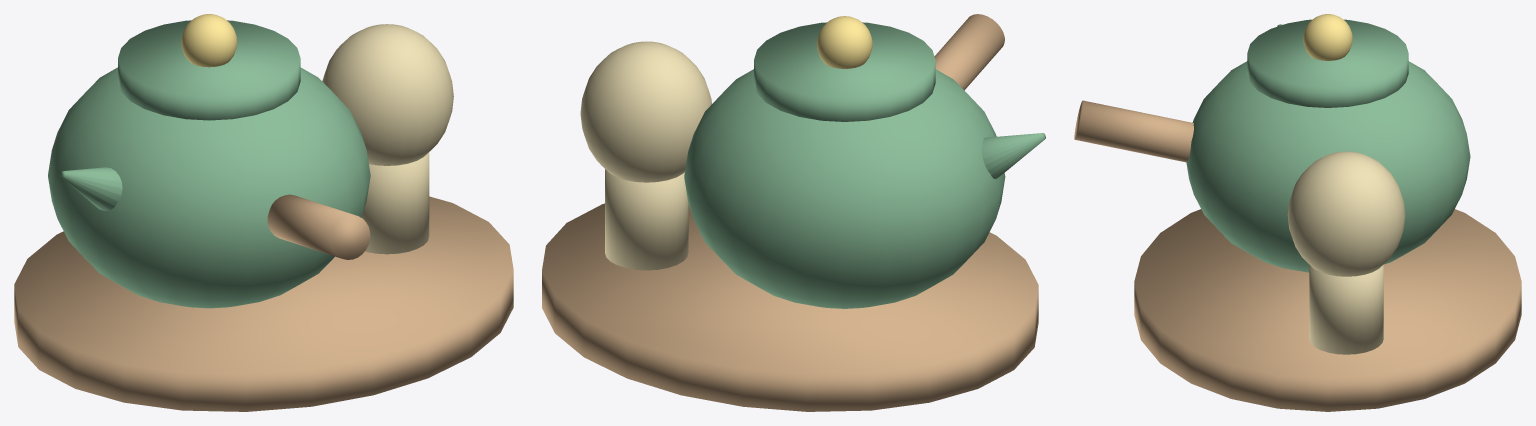
File: keepsake_teapot.glb
3 renders of one model, left to right at view 1: azimuth 30°, elevation 25°; view 2: azimuth 150°, elevation 25°; view 3: azimuth 270°, elevation 25°, orthographic. The views are drawn at different scales.
Visible parts, largest first — view 1: Keepsake_Teapot; view 2: Keepsake_Teapot; view 3: Keepsake_Teapot.
Boxes of the visible parts, x1,y1,x2,y2 form: Keepsake_Teapot: (14, 14, 513, 411); Keepsake_Teapot: (542, 14, 1045, 411); Keepsake_Teapot: (1074, 14, 1521, 411).
Size of the model in its own units: 1.5 by 0.98 by 1.44.
